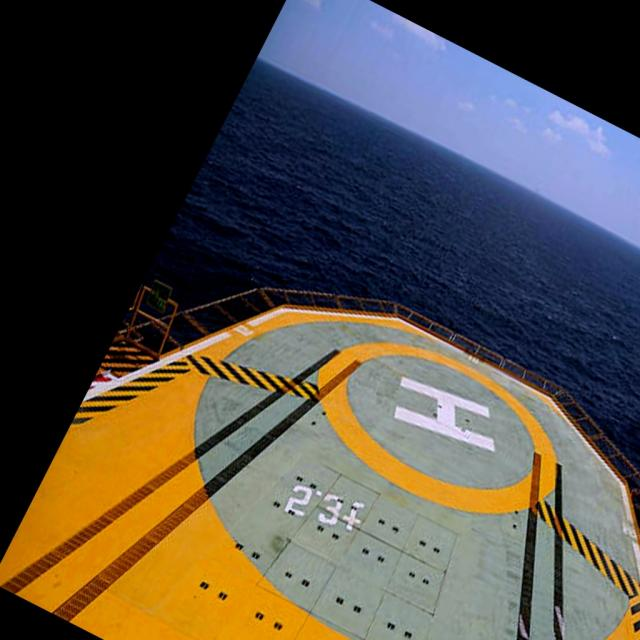helipad: (312, 334, 568, 519)
